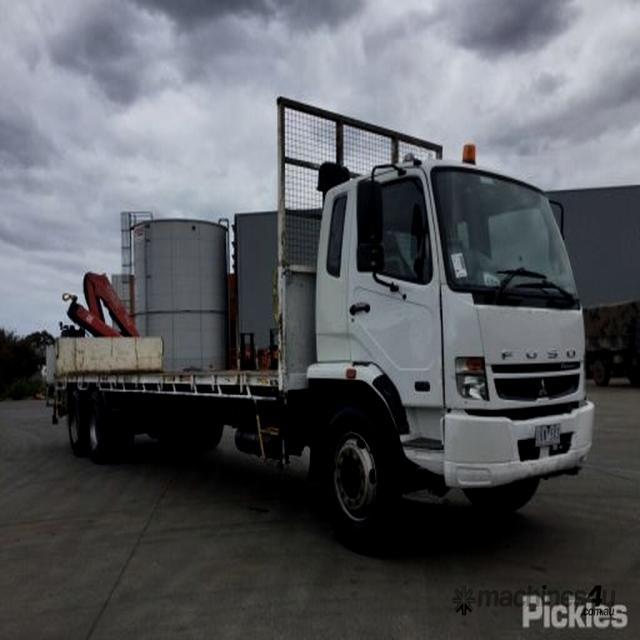truck: (42, 98, 596, 550)
